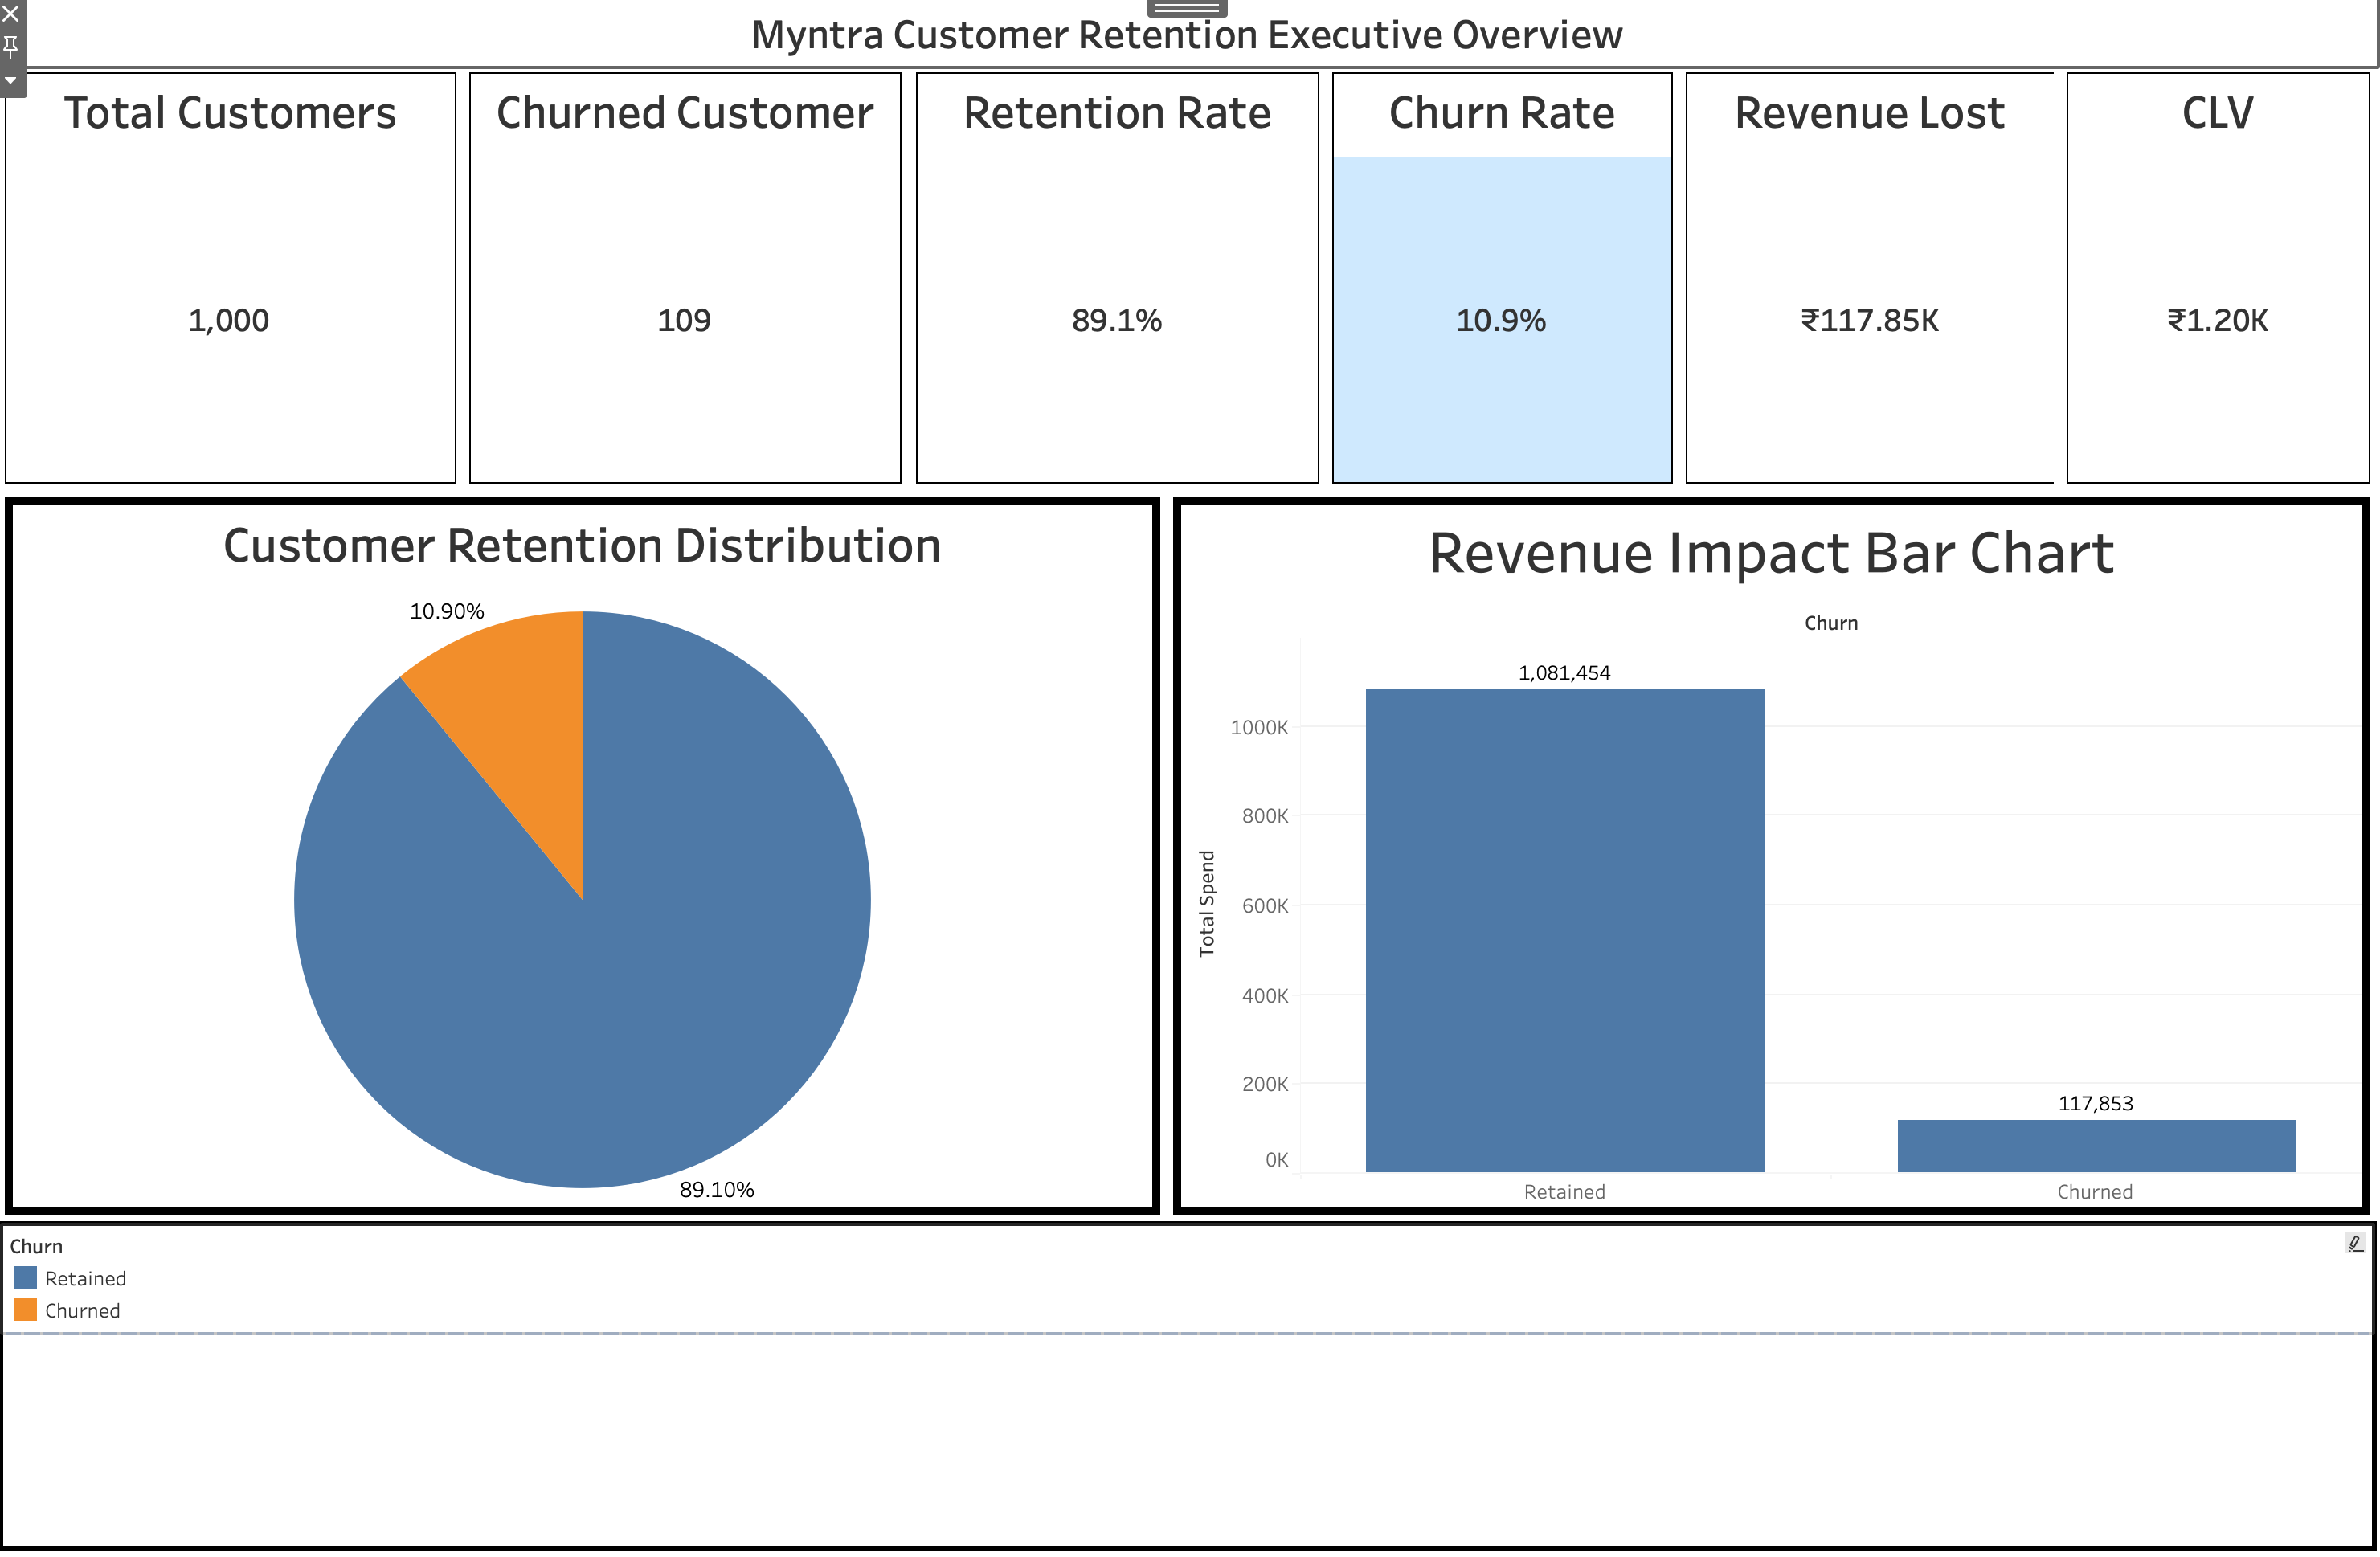

What the dashboard file says about the page in this screenshot:
{"tool":"tableau","page":{"name":"Myntra Customer Retention Executive Overview","canvas":[1000,1000],"units":"permille","ordinal":2},"visuals":[{"type":"title","box":[5.4,8.2,989.3,41.8]},{"type":"worksheet","title":"01_total_customers","mark":"Automatic","box":[5.4,49.9,193.5,268.9]},{"type":"worksheet","title":"02_churned_customer","mark":"Automatic","box":[198.8,49.9,185.5,268.9]},{"type":"worksheet","title":"04_retention_rate","mark":"Automatic","box":[384.3,49.9,173.4,268.9]},{"type":"worksheet","title":"05_churn_rate","mark":"Automatic","box":[557.7,49.9,146.8,268.9]},{"type":"worksheet","title":"06_revenue_lost","mark":"Automatic","box":[704.5,49.9,158.8,268.9]},{"type":"worksheet","title":"07_clv","mark":"Automatic","box":[863.2,49.9,131.4,268.9]},{"type":"worksheet","title":"Executive - Churn Mix","mark":"Pie","box":[5.4,318.8,485.8,464.1]},{"type":"worksheet","title":"Executive - Revenue Impact","mark":"Bar","rows":["total_spend"],"cols":["churn"],"box":[491.1,318.8,503.5,464.1]},{"type":"legend","title":"Executive - Churn Mix","param":"[federated.08yzv0h1f0hq6t16tb4em1shkdt2].[none:churn:ok]","box":[7.4,786,985.3,67.3]}]}

Visuals, with their boxes on the dashboard's canvas, which has no fixed pixel size, in thousandths of its width and height (x1, y1, x2, y2). These are canvas units, not pixel positions in the 2380x1557 screenshot, which may show the page scaled, cropped or inside an application window:
title: <bbox>5, 8, 995, 50</bbox>
"01_total_customers" worksheet: <bbox>5, 50, 199, 319</bbox>
"02_churned_customer" worksheet: <bbox>199, 50, 384, 319</bbox>
"04_retention_rate" worksheet: <bbox>384, 50, 558, 319</bbox>
"05_churn_rate" worksheet: <bbox>558, 50, 704, 319</bbox>
"06_revenue_lost" worksheet: <bbox>704, 50, 863, 319</bbox>
"07_clv" worksheet: <bbox>863, 50, 995, 319</bbox>
"Executive - Churn Mix" worksheet (Pie marks): <bbox>5, 319, 491, 783</bbox>
"Executive - Revenue Impact" worksheet (Bar marks): <bbox>491, 319, 995, 783</bbox>
"Executive - Churn Mix" legend: <bbox>7, 786, 993, 853</bbox>
